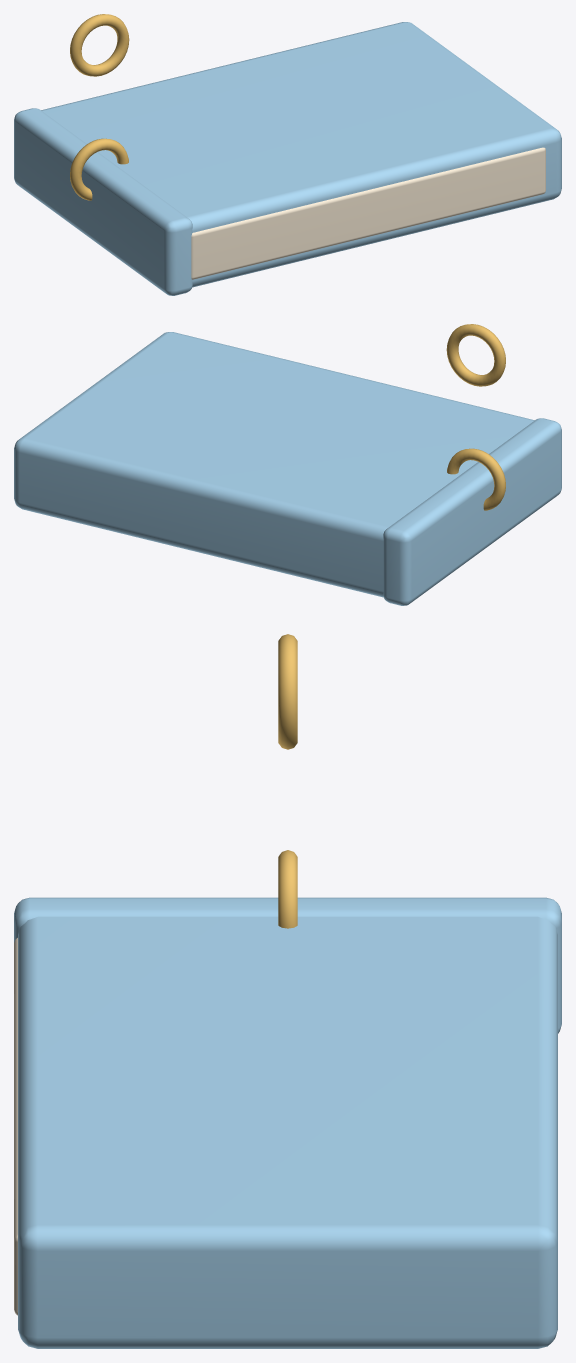
File: booksRingBinderBlue.glb
3 views of the same model, one above another, from view 1: azimuth 30°, elevation 25°; view 2: azimuth 150°, elevation 25°; view 3: azimuth 270°, elevation 25° (orthographic). The views are drawn at different scales.
Visible parts, largest first — view 1: Book cover, Pages, Spine, Binder ring.001, Binder ring; view 2: Book cover, Spine, Binder ring.001, Binder ring; view 3: Book cover, Spine, Binder ring.001, Binder ring, Pages.
Part boxes in pixels (x1,y1,x2,y2): Book cover: (41,22,561,287); Pages: (191,147,545,279); Spine: (14,108,192,295); Binder ring.001: (70,14,129,76); Binder ring: (70,138,128,200); Book cover: (14,332,534,597); Spine: (383,418,561,605); Binder ring.001: (446,324,505,386); Binder ring: (447,448,505,510); Book cover: (18,916,557,1348); Spine: (14,897,561,1033); Binder ring.001: (278,634,297,749); Binder ring: (278,850,297,928); Pages: (14,938,17,1315).
Size of the model in its own units: 1.05 by 0.543 by 0.69.
